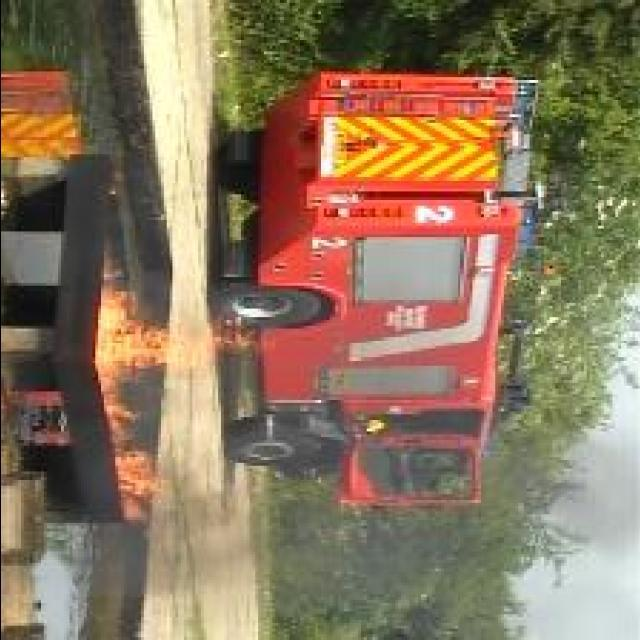Fire: (90, 288, 256, 446), (110, 448, 167, 522)
